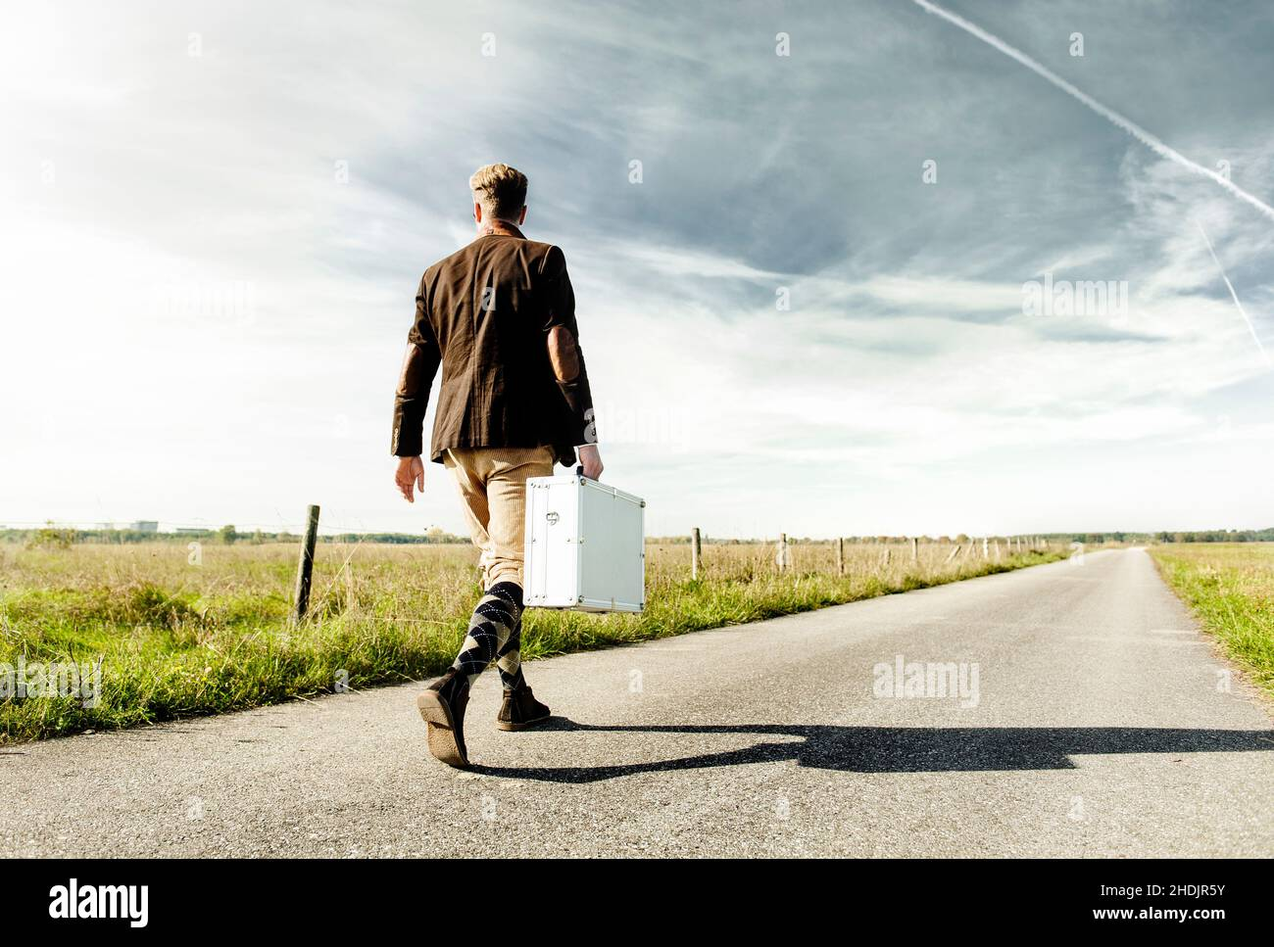Person: (374, 158, 653, 771)
